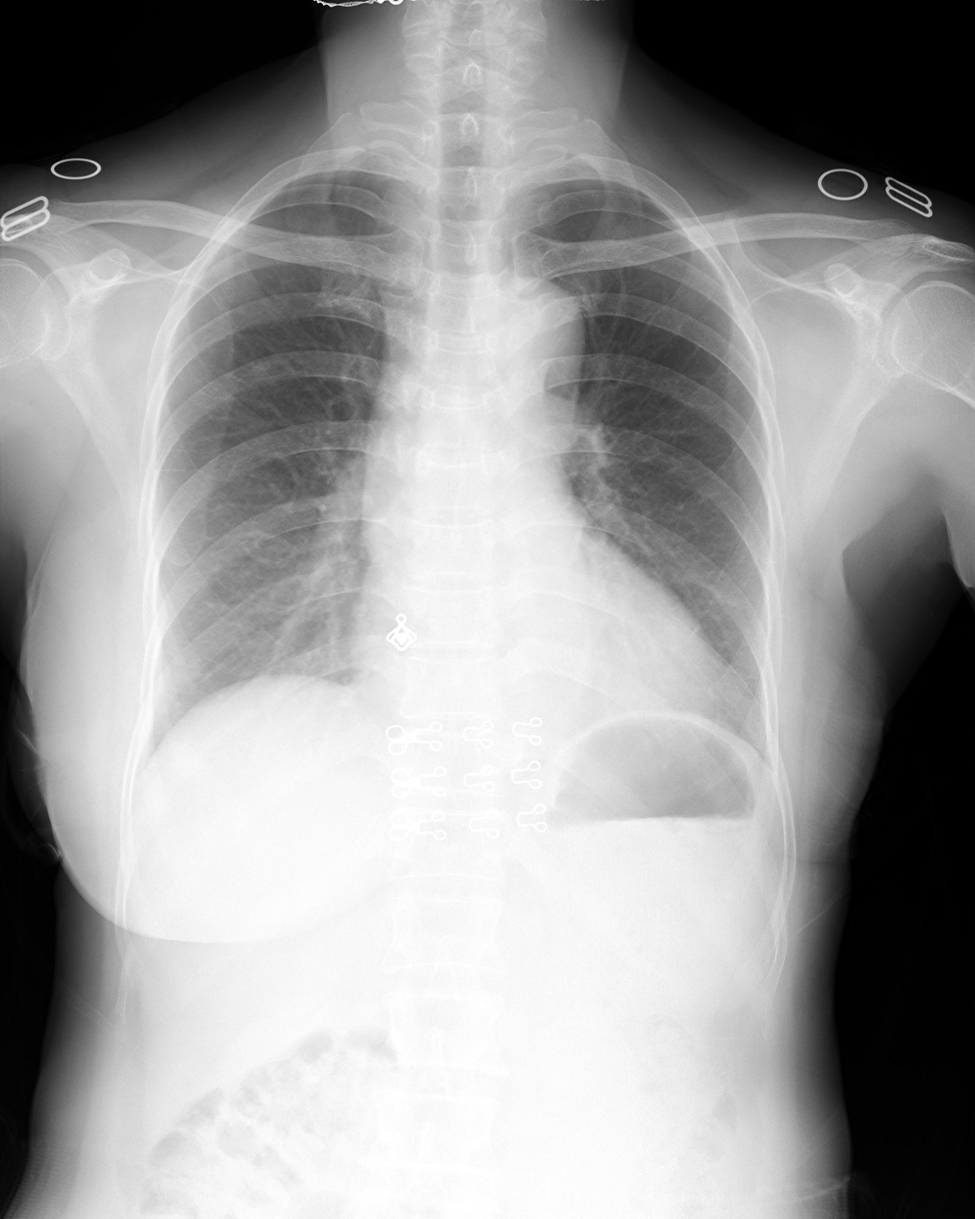Aortic enlargement: (466, 274, 585, 403)
Cardiomegaly: (344, 604, 723, 745)
Pleural thickening: (264, 168, 347, 203)
